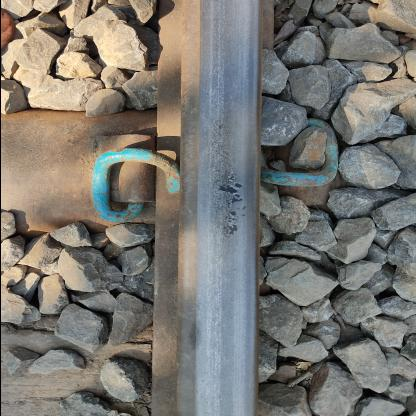Non Defective 1: (41, 150, 161, 284), (193, 140, 329, 256)
